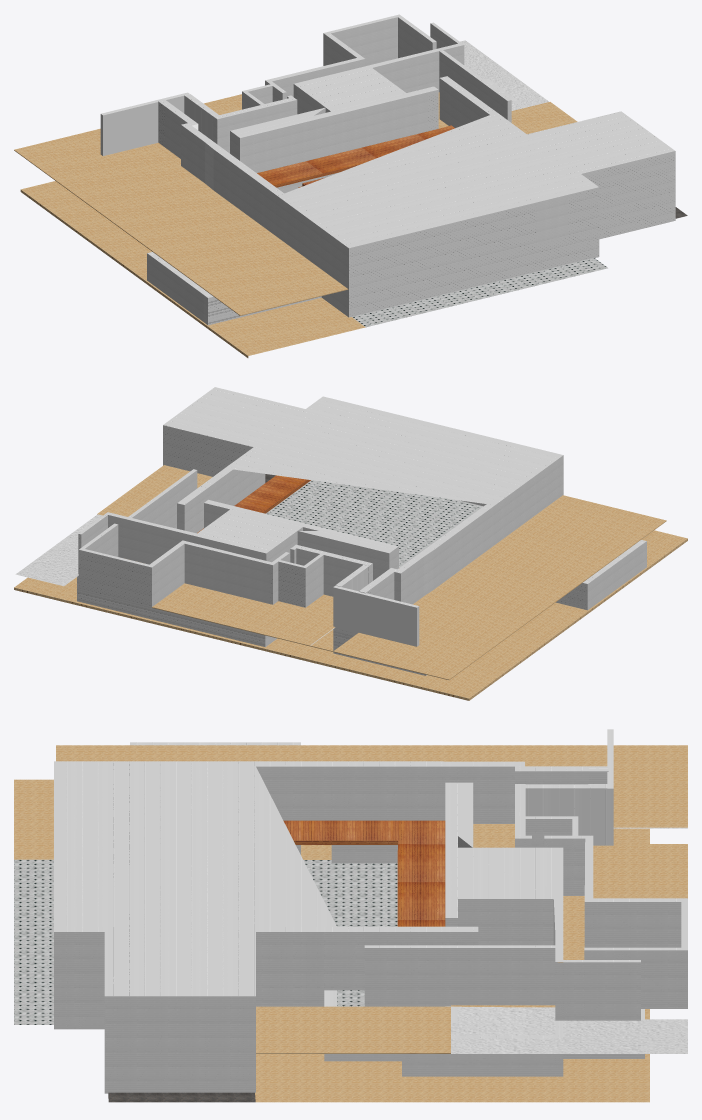
The model's file is VitaHuset.fbx.
3 views of the same model, one above another, from view 1: azimuth 30°, elevation 25°; view 2: azimuth 150°, elevation 25°; view 3: azimuth 270°, elevation 25° (orthographic). The views are drawn at different scales.
Visible parts, largest first — view 1: Hus, Golv2, Golv1; view 2: Hus, Golv2, Golv1; view 3: Hus, Golv2, Golv1.
Boxes of the visible parts, box(x1,y1,x2,y2) form: Hus: box(100, 14, 675, 325); Golv2: box(14, 40, 577, 315); Golv1: box(20, 181, 687, 357); Hus: box(77, 387, 646, 675); Golv2: box(15, 465, 666, 680); Golv1: box(14, 474, 687, 700); Hus: box(54, 729, 687, 1093); Golv2: box(56, 745, 687, 1053); Golv1: box(14, 779, 649, 1102).
Bounding box in the file's own units: 17.56 × 2.54 × 15.5.
